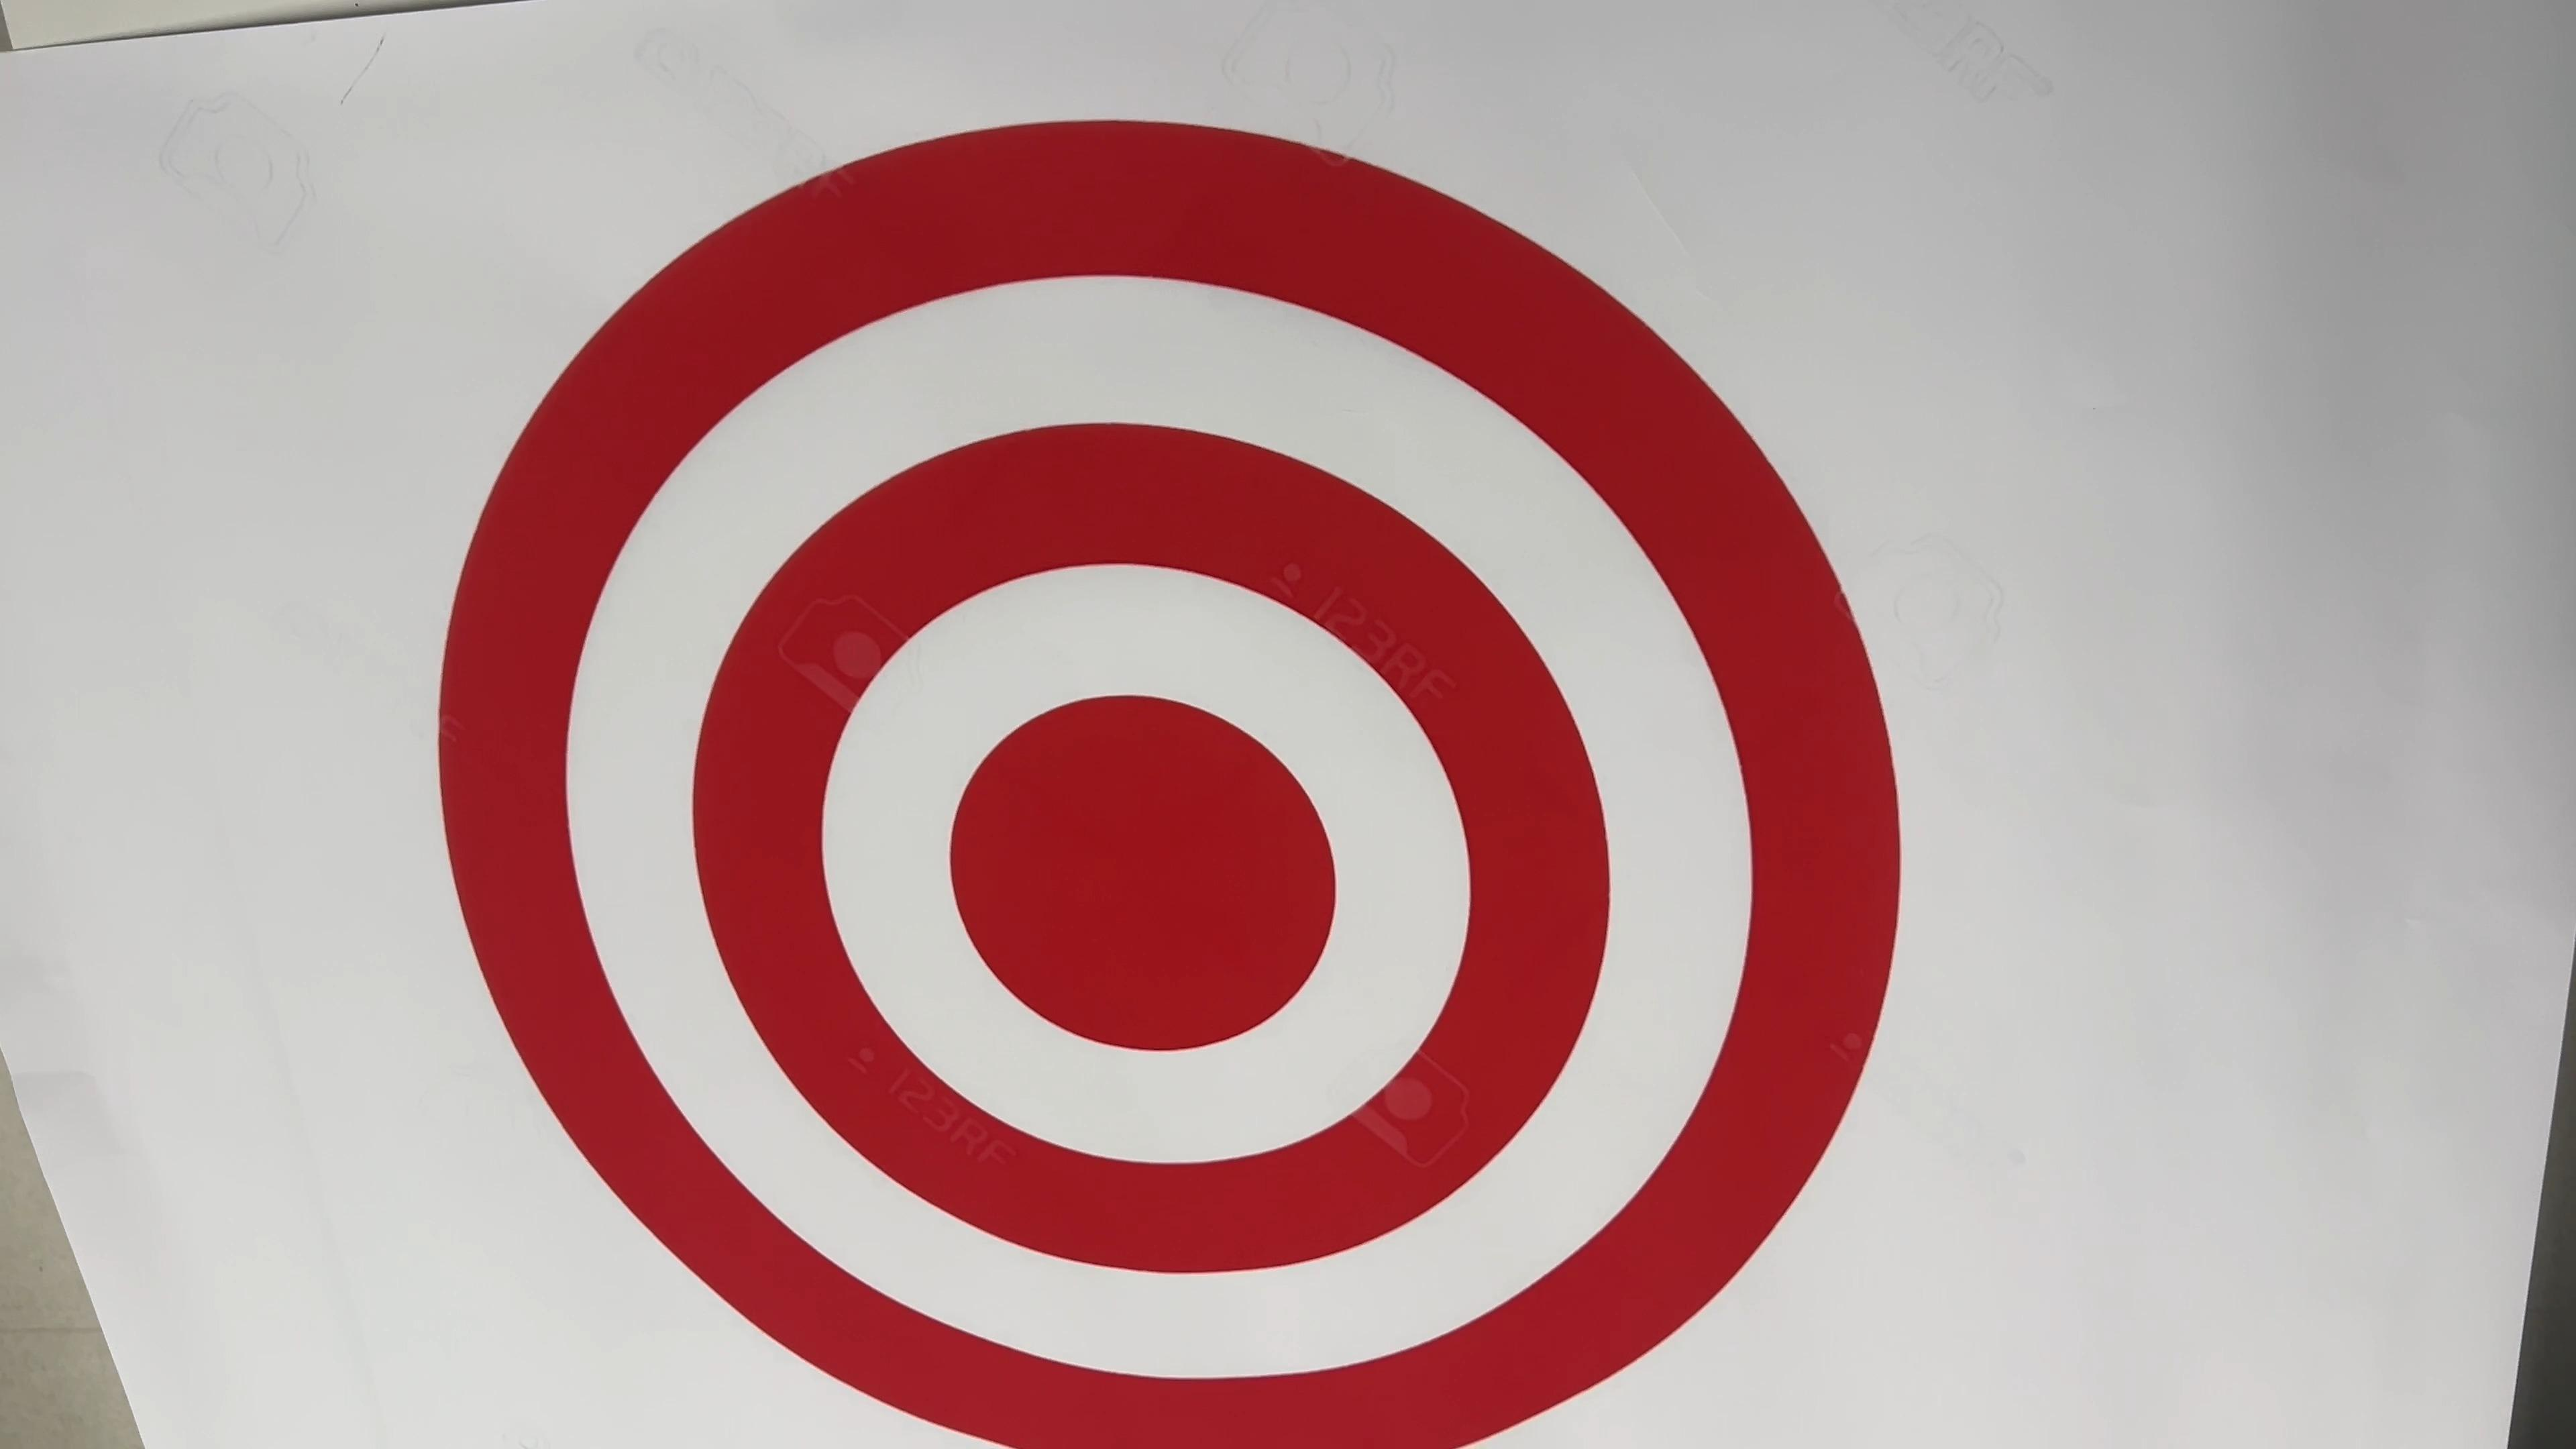target_red: (430, 99, 1920, 1449)
